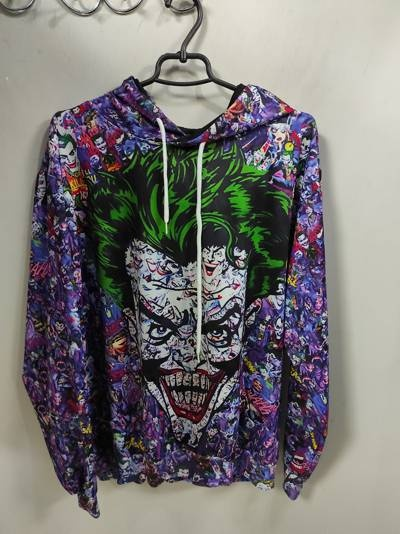Hoodie: (23, 46, 356, 491)
